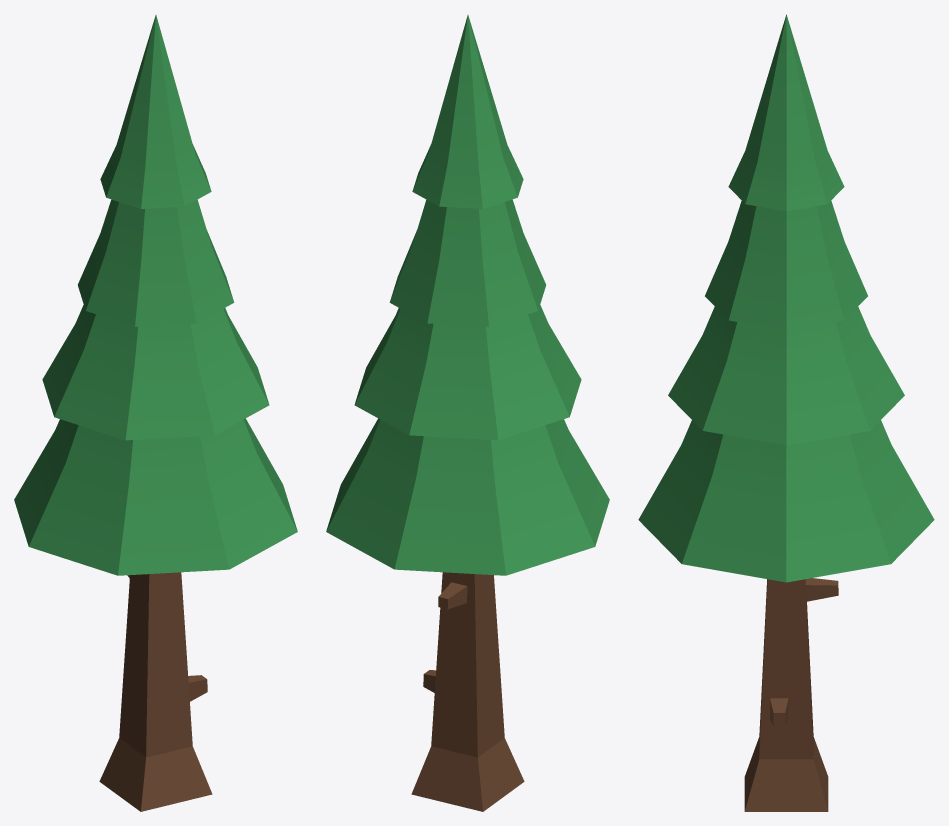
Rendered from tree_pine.glb.
The picture shows the model from 3 angles, left to right: view 1: azimuth 30°, elevation 25°; view 2: azimuth 150°, elevation 25°; view 3: azimuth 270°, elevation 25°; orthographic projection.
Parts seen in each view (by area): view 1: tree_pineDefaultA; view 2: tree_pineDefaultA; view 3: tree_pineDefaultA.
Part boxes in pixels (x1,y1,x2,y2): tree_pineDefaultA: [14, 15, 297, 811]; tree_pineDefaultA: [326, 15, 609, 811]; tree_pineDefaultA: [638, 14, 934, 811].
Bounding box in the file's own units: 0.532 × 1.55 × 0.532.
